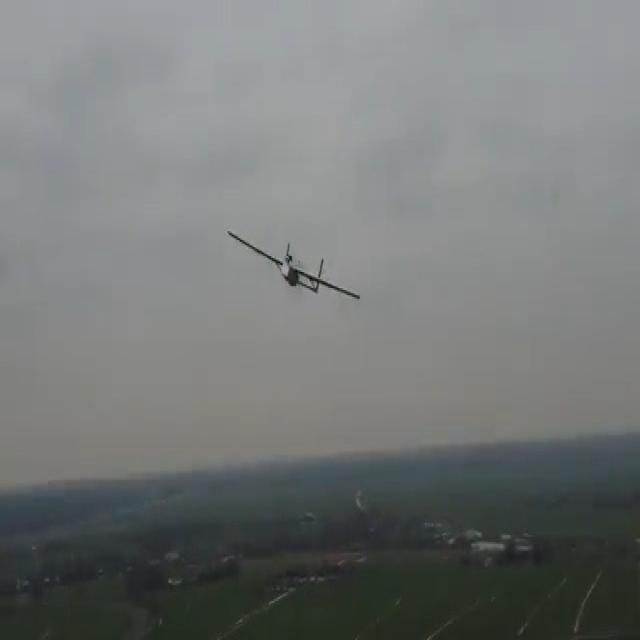iha: (229, 254, 361, 287)
